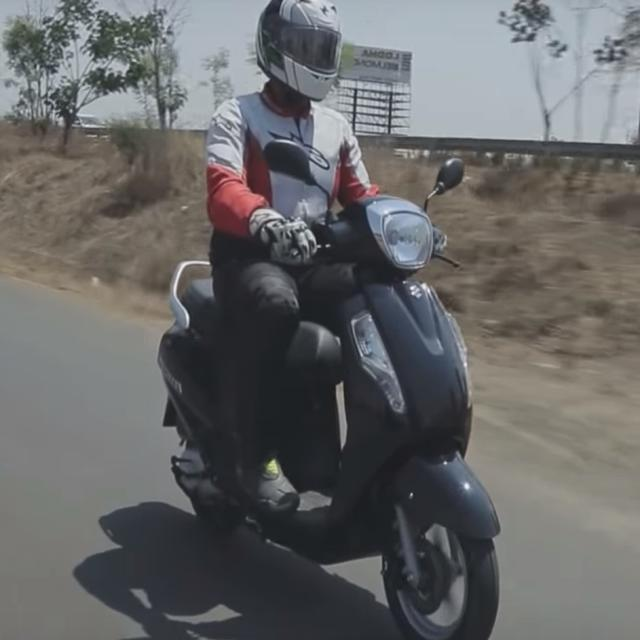helmet: (252, 0, 339, 106)
